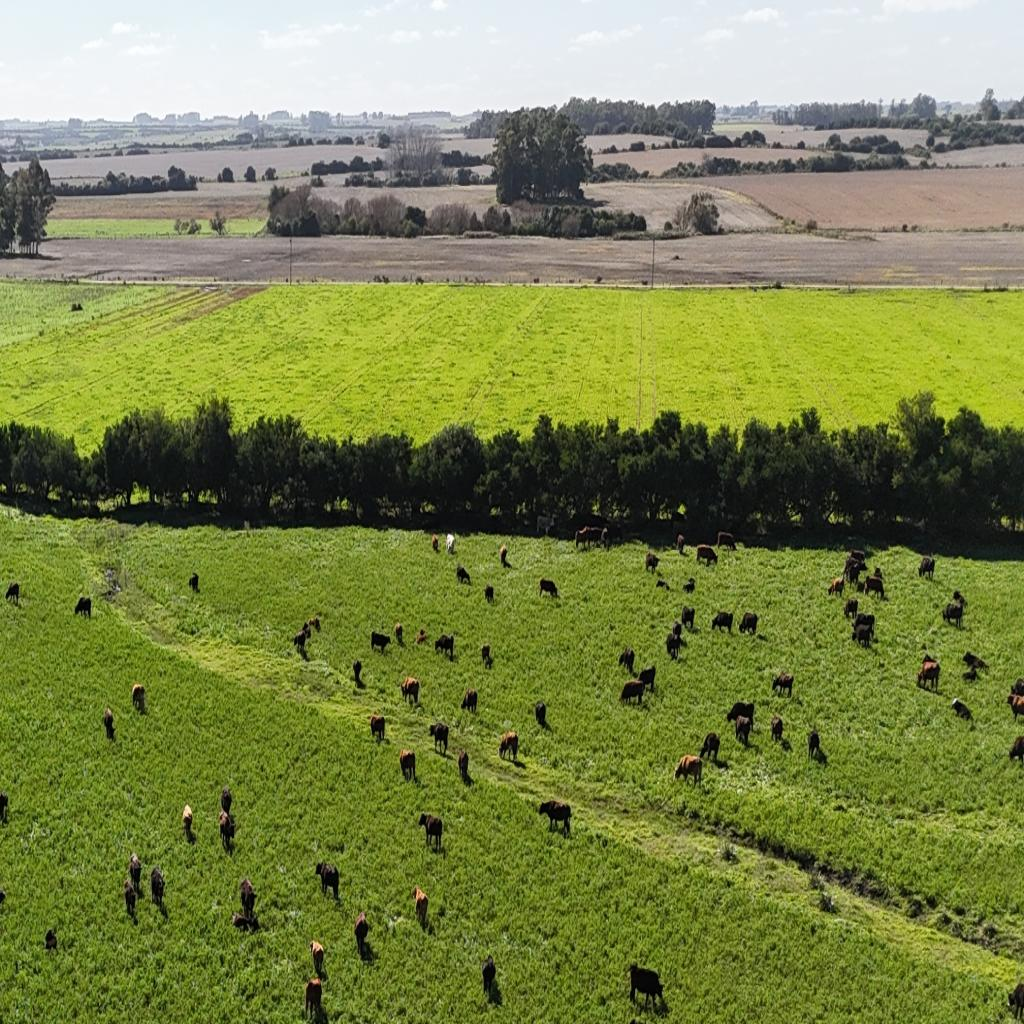cow: (630, 963, 662, 1010), (936, 588, 968, 630), (666, 610, 694, 658), (538, 800, 571, 836), (675, 753, 703, 788), (841, 549, 866, 588), (418, 814, 442, 854), (315, 861, 339, 899), (304, 976, 323, 1019), (620, 679, 645, 708), (918, 658, 940, 690), (726, 701, 753, 727), (430, 721, 450, 756), (240, 876, 256, 918), (1005, 692, 1024, 727), (413, 884, 428, 928), (309, 938, 325, 978), (150, 866, 166, 906), (219, 812, 235, 851), (498, 730, 517, 762), (700, 732, 720, 762), (963, 651, 989, 673), (863, 575, 885, 601), (231, 912, 258, 933), (482, 955, 496, 995), (354, 911, 368, 950), (129, 852, 142, 894), (638, 663, 656, 693), (399, 748, 415, 781), (773, 672, 794, 697), (852, 624, 873, 649), (434, 634, 454, 660), (402, 676, 419, 706), (951, 698, 972, 722), (370, 631, 391, 655), (738, 611, 759, 635), (124, 874, 136, 916), (735, 715, 751, 746), (1012, 981, 1024, 1022), (711, 611, 733, 633), (696, 544, 717, 567), (852, 612, 875, 633), (370, 714, 386, 744), (1008, 731, 1024, 761), (458, 748, 470, 784), (132, 684, 146, 714), (770, 714, 784, 744), (619, 647, 635, 673), (807, 729, 820, 761), (74, 596, 92, 619), (919, 556, 935, 581), (539, 578, 558, 599), (103, 707, 115, 740), (462, 687, 477, 712), (536, 515, 553, 537), (717, 531, 736, 550), (293, 632, 308, 656), (182, 804, 193, 836), (5, 582, 20, 605), (221, 785, 232, 816), (844, 597, 858, 621), (681, 606, 695, 630), (534, 701, 546, 727), (44, 928, 58, 950), (645, 551, 659, 573), (0, 790, 9, 824), (962, 664, 979, 682), (919, 651, 939, 666), (952, 590, 968, 608), (828, 577, 843, 596), (456, 565, 470, 585), (352, 659, 362, 685), (669, 620, 682, 640), (481, 643, 491, 666), (308, 616, 321, 633), (1014, 677, 1024, 698), (189, 573, 199, 593), (683, 578, 695, 594), (415, 629, 427, 645), (484, 585, 494, 604), (394, 623, 403, 643), (302, 620, 312, 638), (499, 544, 507, 566), (446, 534, 455, 553), (656, 578, 670, 590), (677, 534, 685, 554), (431, 535, 439, 552), (872, 566, 883, 578), (0, 888, 6, 909)
